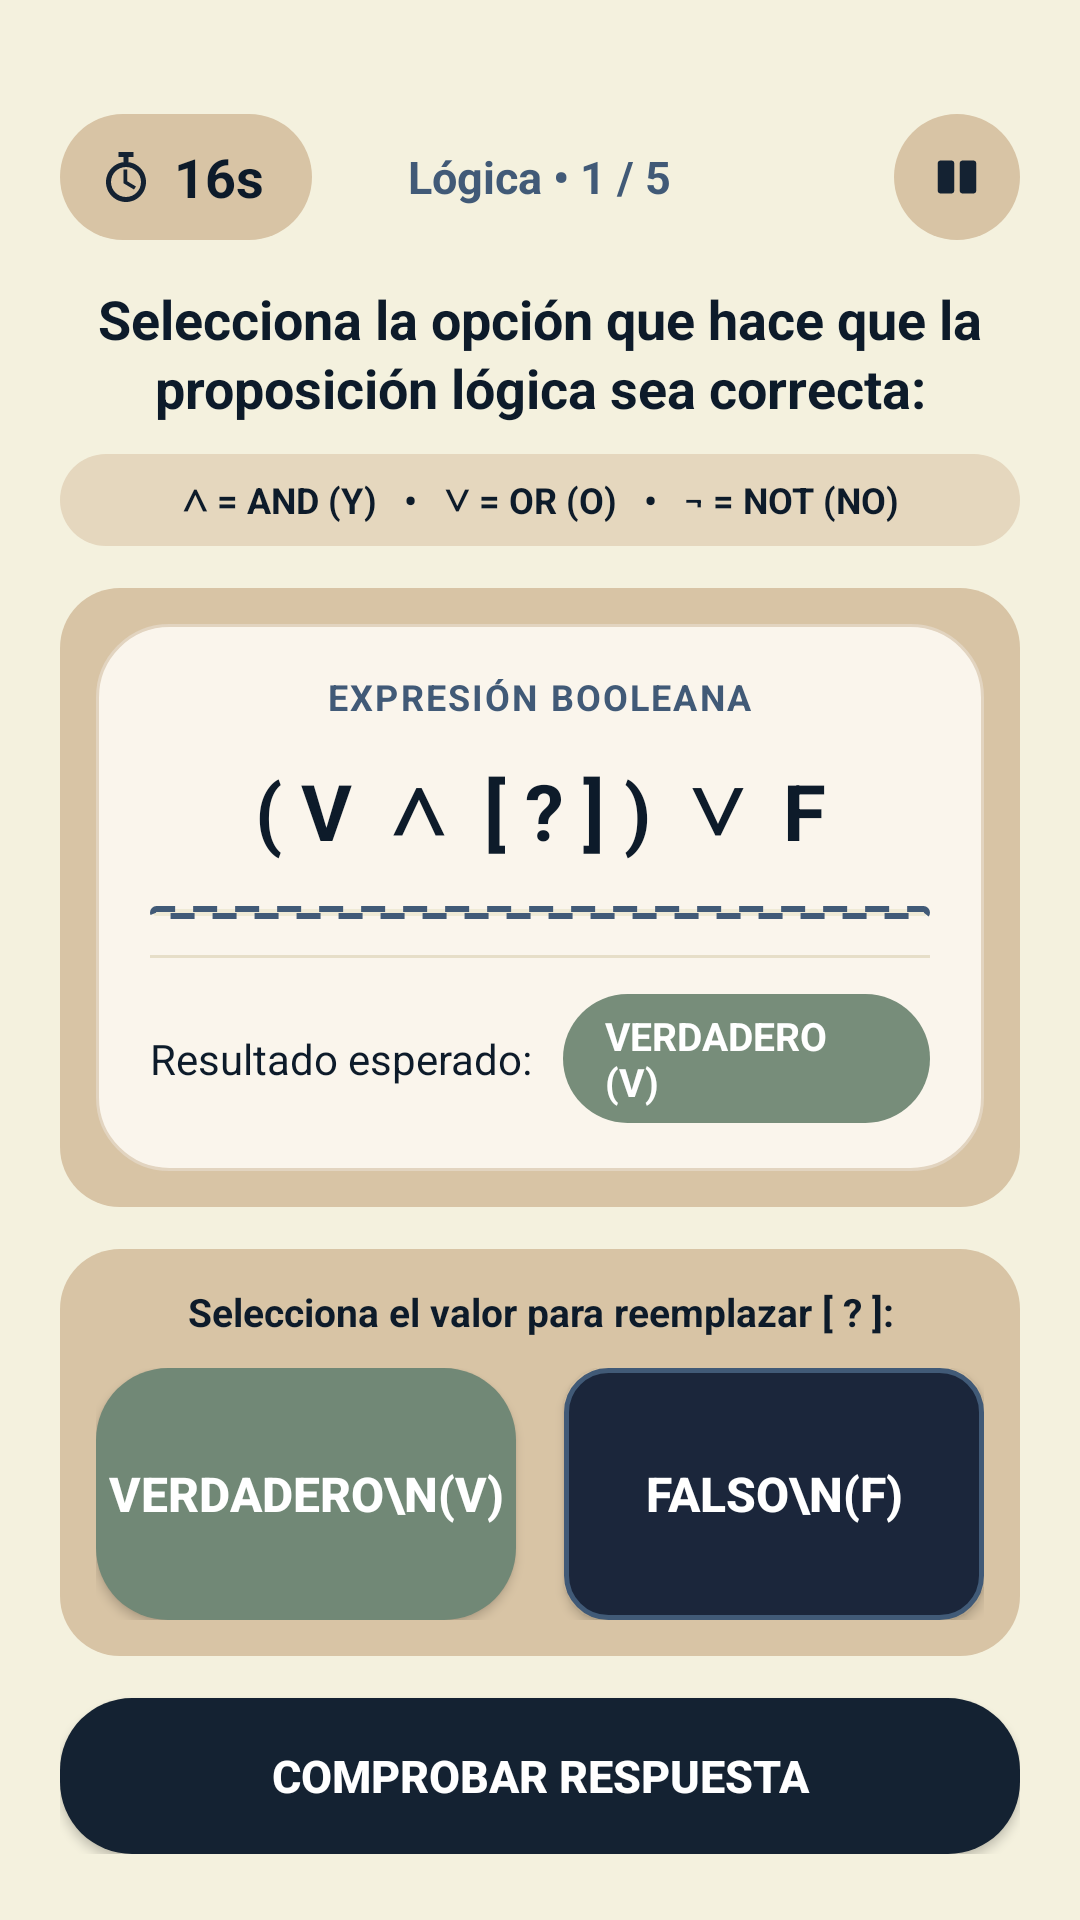

Icons on this 1080px×1920px Android screen, each with its box as (x1, y1, x2, y2):
Pausa: (894, 114, 1020, 240)
Temporizador: (106, 152, 146, 202)
